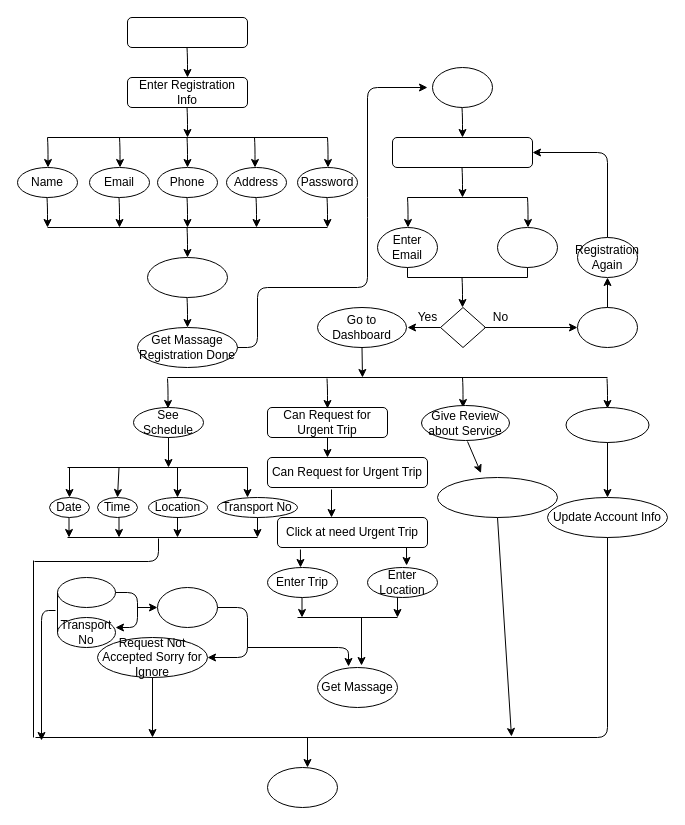
Some shapes in this 685 by 825 pixel diagram are drawn without their labels. The centre of each missing label's shape, as x and y in pixels:
"Click at Live Preview" goes at [497,497].
"Driver Name" goes at [86,592].
"Enter Login / Registration" goes at [462,152].
"Enter Password" goes at [527,247].
"Enter Submit" goes at [187,277].
"Get Login Fail" goes at [607,327].
"Invalid" goes at [463,327].
"Login" goes at [462,87].
"Logout" goes at [302,787].
"Registration" goes at [187,32].
"Request Accepted" goes at [187,607].
"View Account Info" goes at [607,424].
